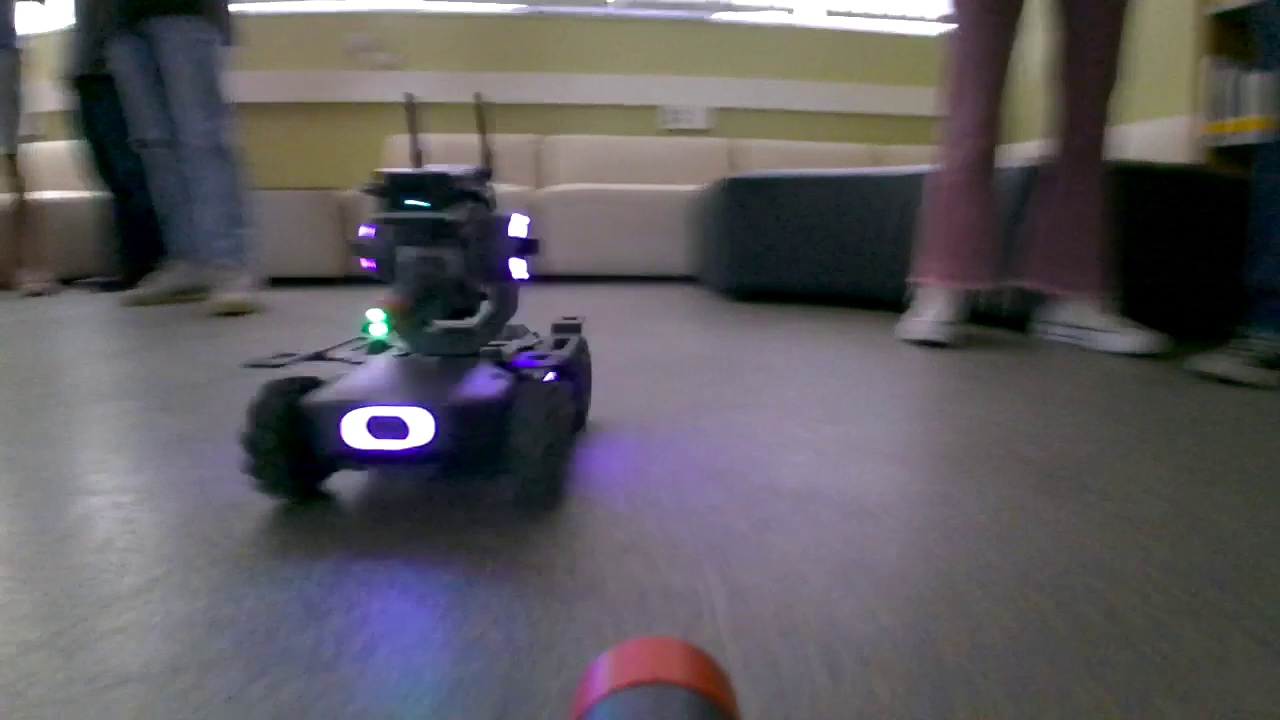robot: (240, 169, 593, 509)
